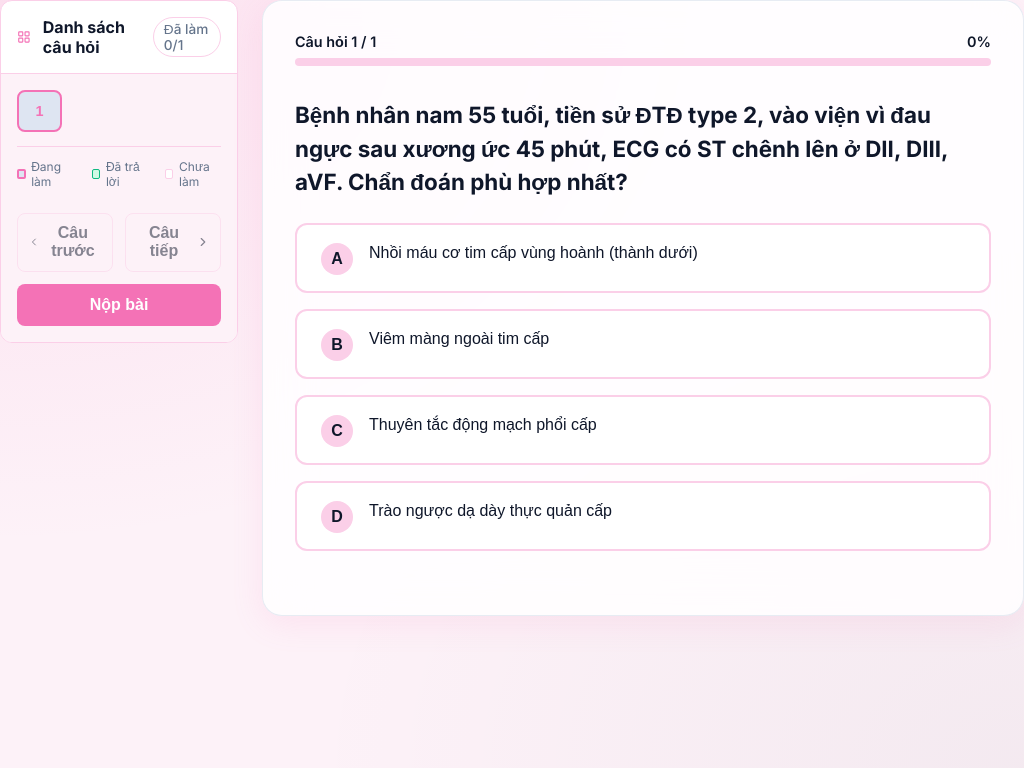
Tier 2: Boundary & Corner Cases › Boundary Group 2: Empty & Extreme Question Arrays › T2.9: handles 1-question quiz calculating 100% score on single correct answer
// Answer correct: A
Click the radio button "Nhồi máu cơ tim cấp vùng hoành (thành dưới)" at (643, 258), box [295,223,991,293]
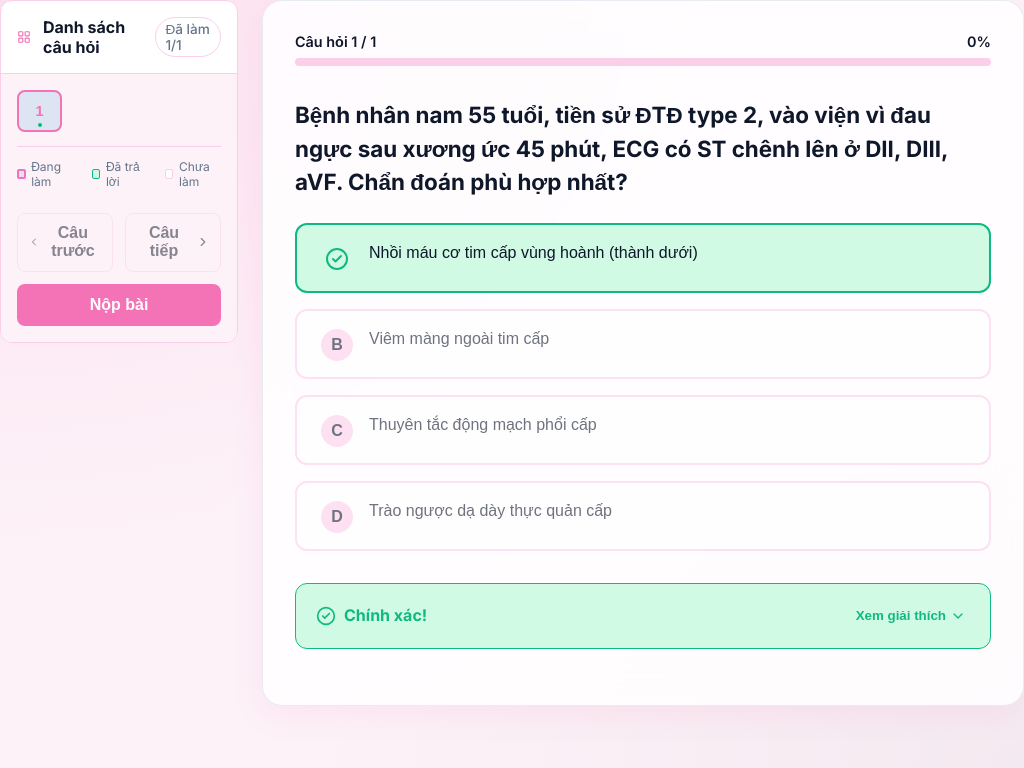
Click the button "Nộp bài" at (119, 305), box [17,284,221,326]
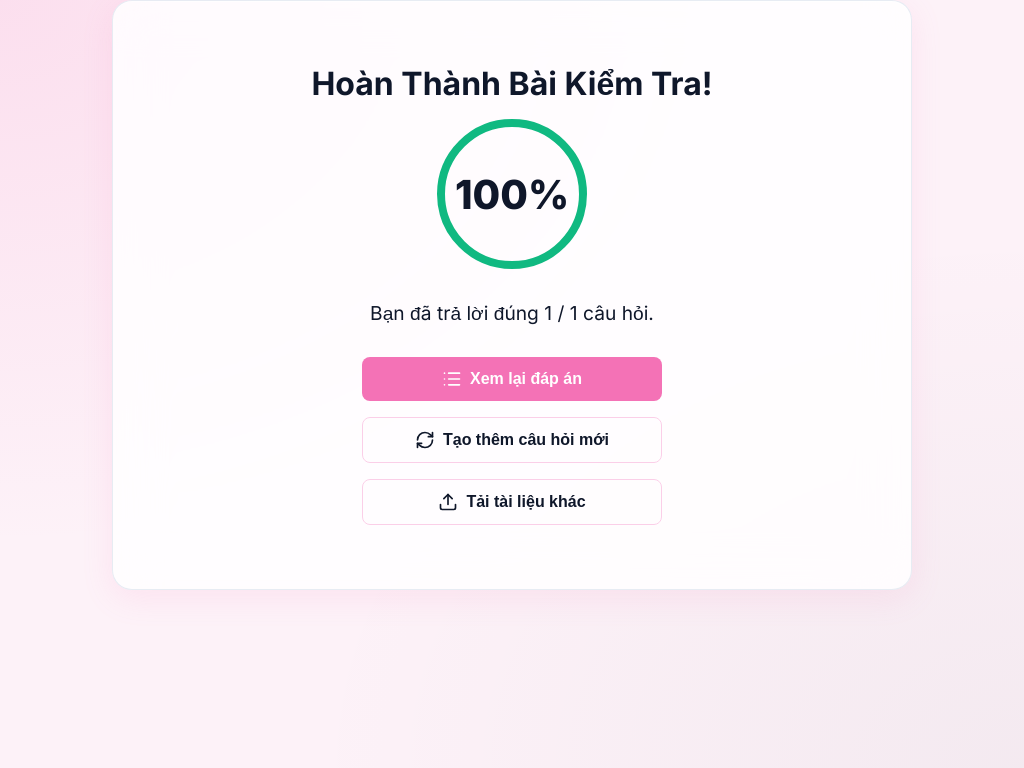
Result: the text "100%" is shown at [437,119,587,269]
Result: the text "Bạn đã trả lời đúng 1 / 1 câu hỏi." is shown at [370,301,654,325]
